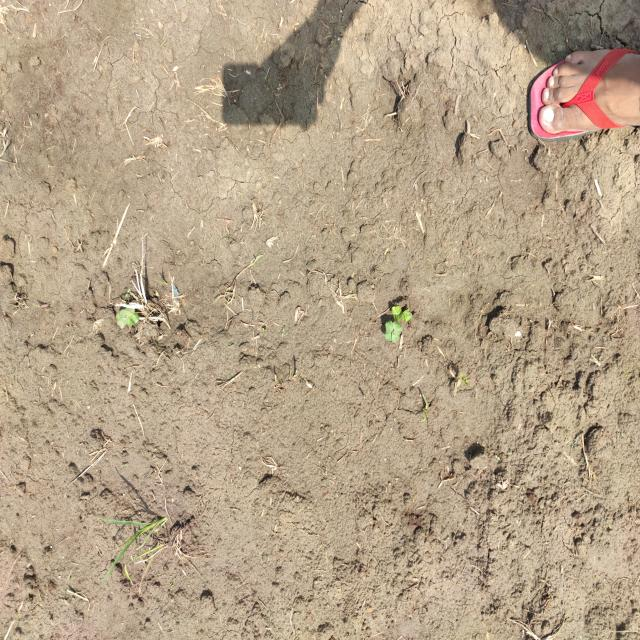seedling: (392, 321, 402, 343), (124, 307, 135, 324), (385, 321, 393, 341), (129, 313, 139, 327), (119, 309, 125, 329), (401, 312, 412, 322), (391, 306, 402, 315), (394, 313, 403, 322), (115, 312, 120, 326)
